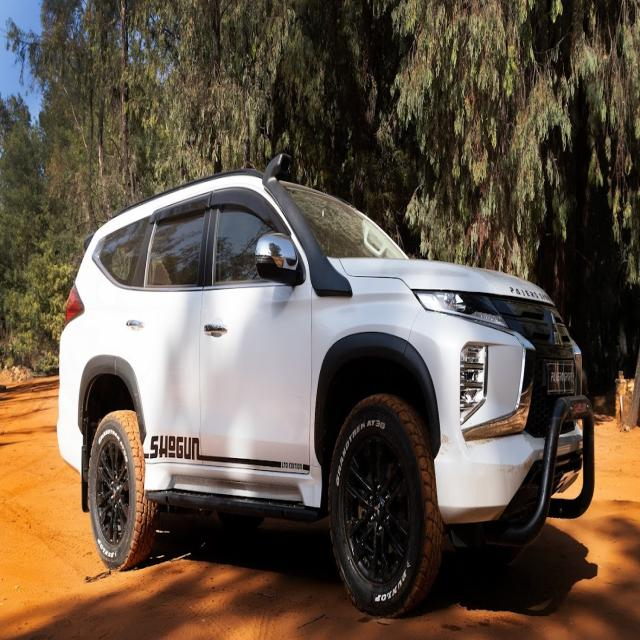LV: (51, 178, 592, 628)
